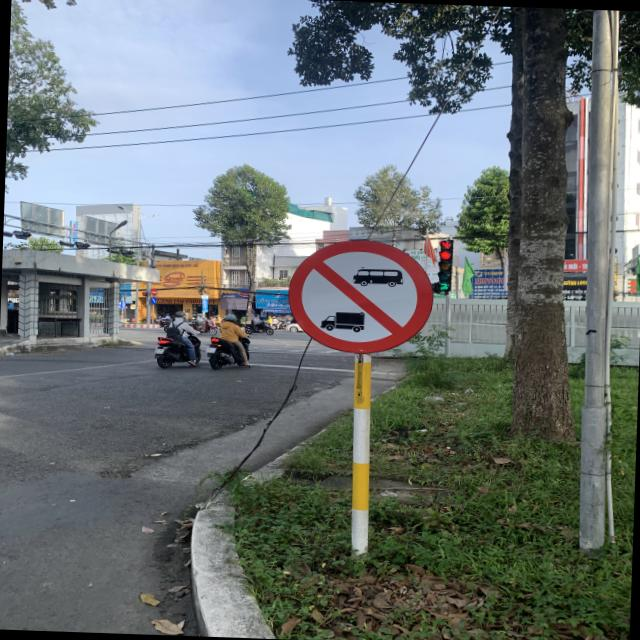Cam_XeTai_XeKhach: (287, 236, 436, 354)
